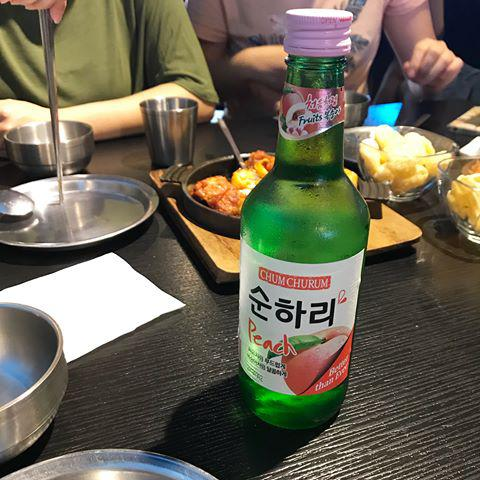soju: (232, 9, 370, 429)
